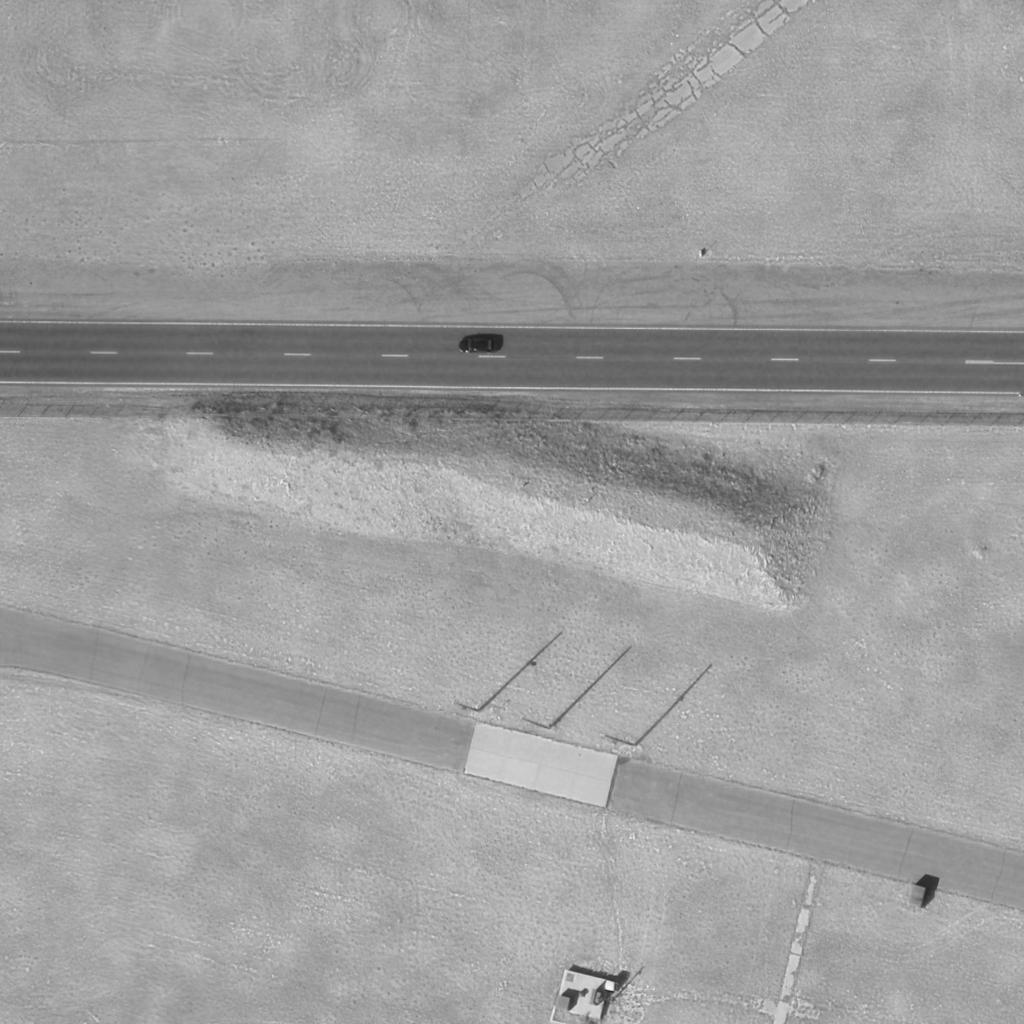vehicle: (458, 336, 500, 354)
